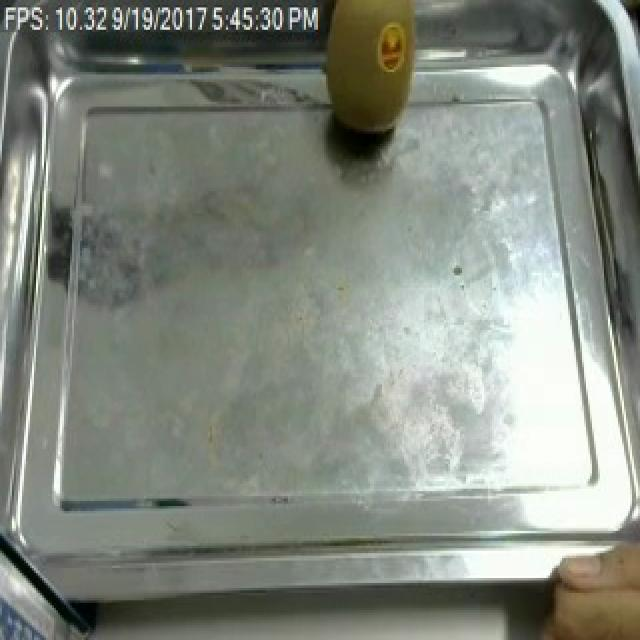Fruit: (310, 0, 424, 154), (524, 526, 640, 640)
